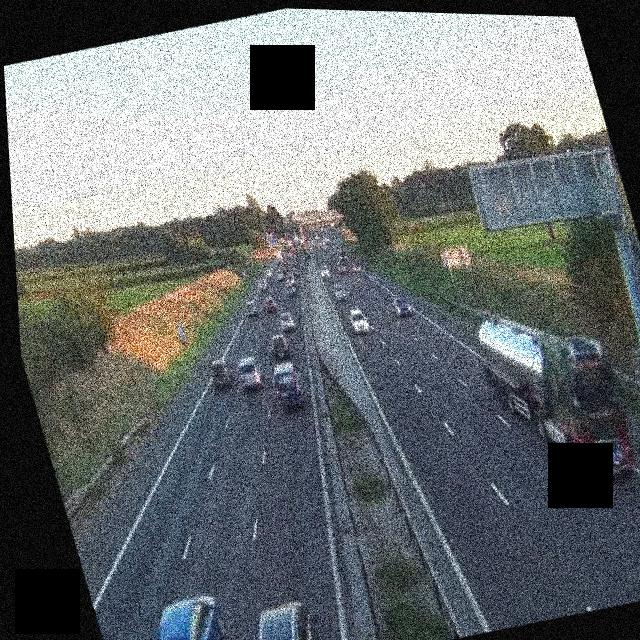car: (132, 589, 238, 640), (232, 596, 328, 640), (269, 361, 308, 413), (233, 354, 266, 393), (206, 355, 236, 390), (267, 333, 292, 363), (348, 305, 371, 335), (390, 293, 412, 319), (274, 307, 296, 333), (330, 279, 348, 301), (242, 299, 258, 317), (261, 296, 277, 313), (282, 279, 297, 295), (318, 263, 331, 279), (335, 260, 347, 275), (352, 257, 363, 272), (258, 276, 269, 289)
truck: (468, 292, 640, 497)
